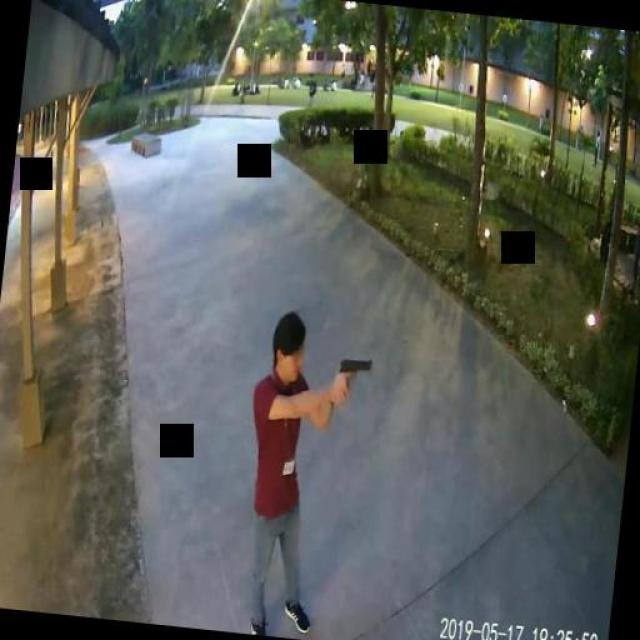gun: (335, 353, 371, 398)
